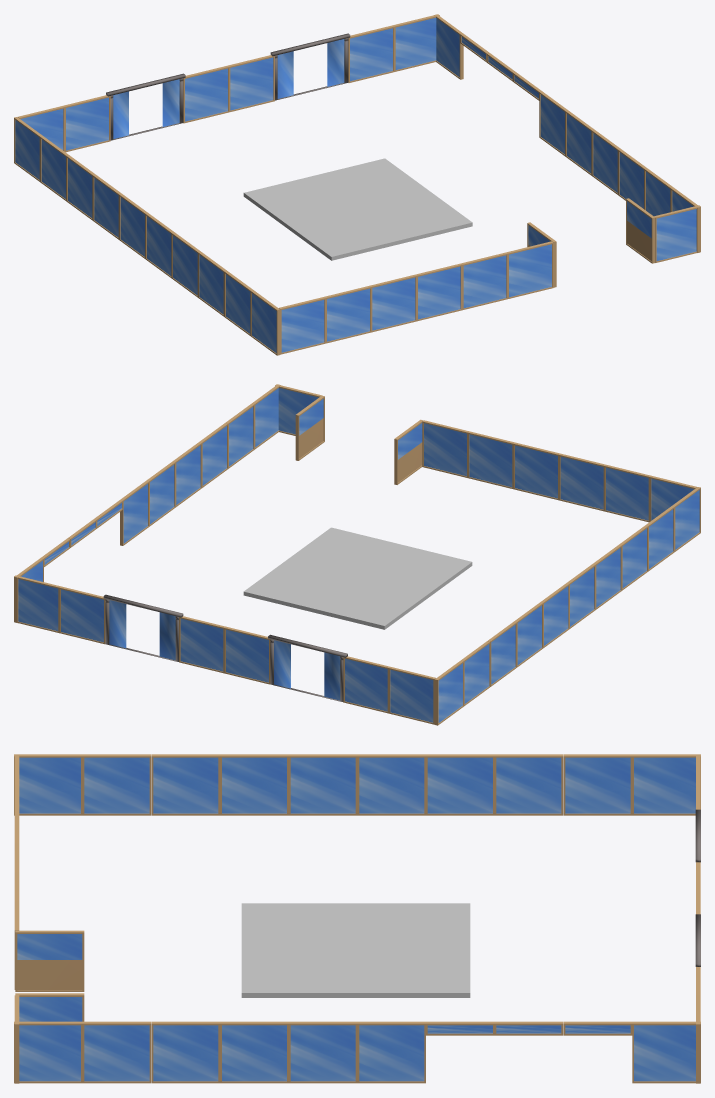
Rendered from SM_Walls_And_Ground.fbx.
The picture shows the model from 3 angles, top to bottom: view 1: azimuth 30°, elevation 25°; view 2: azimuth 150°, elevation 25°; view 3: azimuth 270°, elevation 25°; orthographic projection. The views are drawn at different scales.
Parts seen in each view (by area): view 1: SM_Market.038, SM_Market.001, SM_Market.002, SM_Market.018, SM_Market.035, SM_Market.037, SM_Market.016, SM_Market.019, SM_Market.020, SM_Market.015, SM_Market.017, SM_Market.003 (+23 smaller); view 2: SM_Market.038, SM_Market.001, SM_Market.002, SM_Market.035, SM_Market.037, SM_Market.018, SM_Market.016, SM_Market.019, SM_Market.020, SM_Market.004, SM_Market.017, SM_Market.003 (+23 smaller); view 3: SM_Market.038, SM_Market.025, SM_Market.026, SM_Market.027, SM_Market.028, SM_Market.029, SM_Market.006, SM_Market.007, SM_Market.013, SM_Market.010, SM_Market.021, SM_Market.012 (+12 smaller).
Boxes of the visible parts, bbox=[...] form: SM_Market.038: bbox=[243, 158, 472, 260]; SM_Market.001: bbox=[270, 33, 350, 100]; SM_Market.002: bbox=[106, 73, 185, 140]; SM_Market.018: bbox=[415, 263, 462, 321]; SM_Market.035: bbox=[348, 25, 394, 82]; SM_Market.037: bbox=[183, 65, 229, 123]; SM_Market.016: bbox=[324, 285, 371, 343]; SM_Market.019: bbox=[461, 252, 507, 310]; SM_Market.020: bbox=[506, 241, 553, 298]; SM_Market.015: bbox=[279, 297, 325, 354]; SM_Market.017: bbox=[370, 274, 416, 332]; SM_Market.003: bbox=[63, 95, 110, 152]; SM_Market.038: bbox=[243, 527, 472, 629]; SM_Market.001: bbox=[103, 594, 183, 661]; SM_Market.002: bbox=[268, 634, 347, 701]; SM_Market.035: bbox=[59, 586, 105, 644]; SM_Market.037: bbox=[224, 626, 270, 684]; SM_Market.018: bbox=[513, 442, 560, 500]; SM_Market.016: bbox=[604, 464, 651, 522]; SM_Market.019: bbox=[468, 431, 514, 489]; SM_Market.020: bbox=[422, 420, 469, 477]; SM_Market.004: bbox=[389, 667, 435, 724]; SM_Market.017: bbox=[559, 453, 605, 511]; SM_Market.003: bbox=[343, 656, 390, 713]; SM_Market.038: bbox=[241, 903, 470, 997]; SM_Market.025: bbox=[82, 1021, 151, 1083]; SM_Market.026: bbox=[151, 1021, 220, 1083]; SM_Market.027: bbox=[220, 1021, 288, 1083]; SM_Market.028: bbox=[288, 1021, 357, 1083]; SM_Market.029: bbox=[357, 1021, 425, 1083]; SM_Market.006: bbox=[563, 754, 632, 815]; SM_Market.007: bbox=[494, 754, 563, 815]; SM_Market.013: bbox=[82, 754, 151, 815]; SM_Market.010: bbox=[288, 754, 357, 815]; SM_Market.021: bbox=[15, 930, 84, 991]; SM_Market.012: bbox=[151, 754, 220, 815].
Bounding box in the file's own units: 3967 × 460 × 4264.
